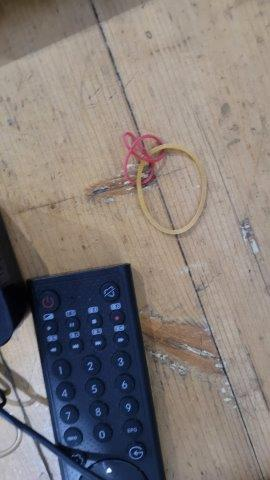karet: (123, 131, 207, 236)
